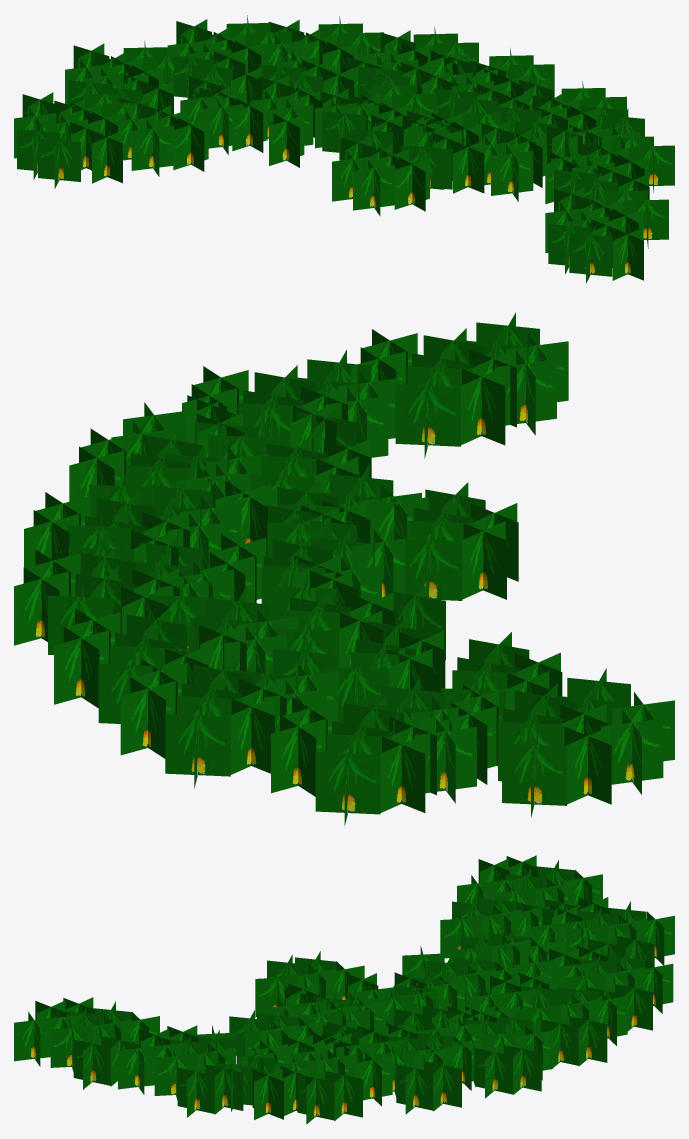
The model's file is HTOWN01_TULIPYELLOW01.obj.
The picture shows the model from 3 angles, top to bottom: view 1: azimuth 30°, elevation 25°; view 2: azimuth 150°, elevation 25°; view 3: azimuth 270°, elevation 25°; orthographic projection. The views are drawn at different scales.
Visible parts, largest first — view 1: TulipYellow01; view 2: TulipYellow01; view 3: TulipYellow01.
Boxes of the visible parts, x1,y1,x2,y2 form: TulipYellow01: (14,15,674,283); TulipYellow01: (14,312,674,825); TulipYellow01: (14,855,674,1124).
Bounding box in the file's own units: 641 × 50 × 776.
